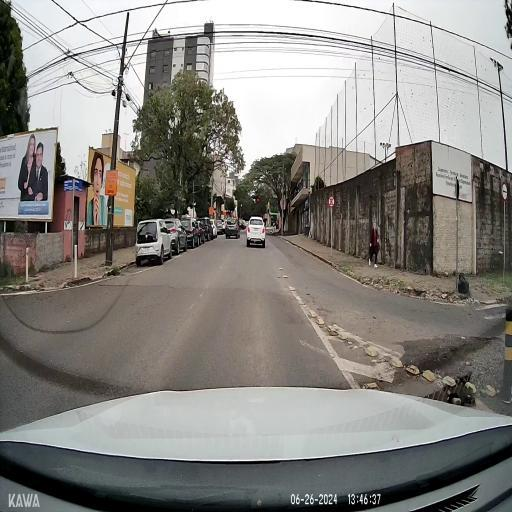R-6c: (328, 196, 334, 206)
